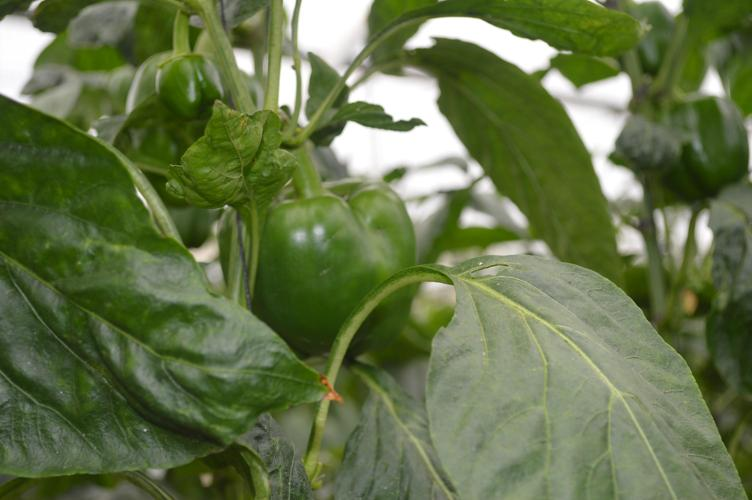BellPepper: (221, 185, 438, 385), (150, 50, 236, 126)
